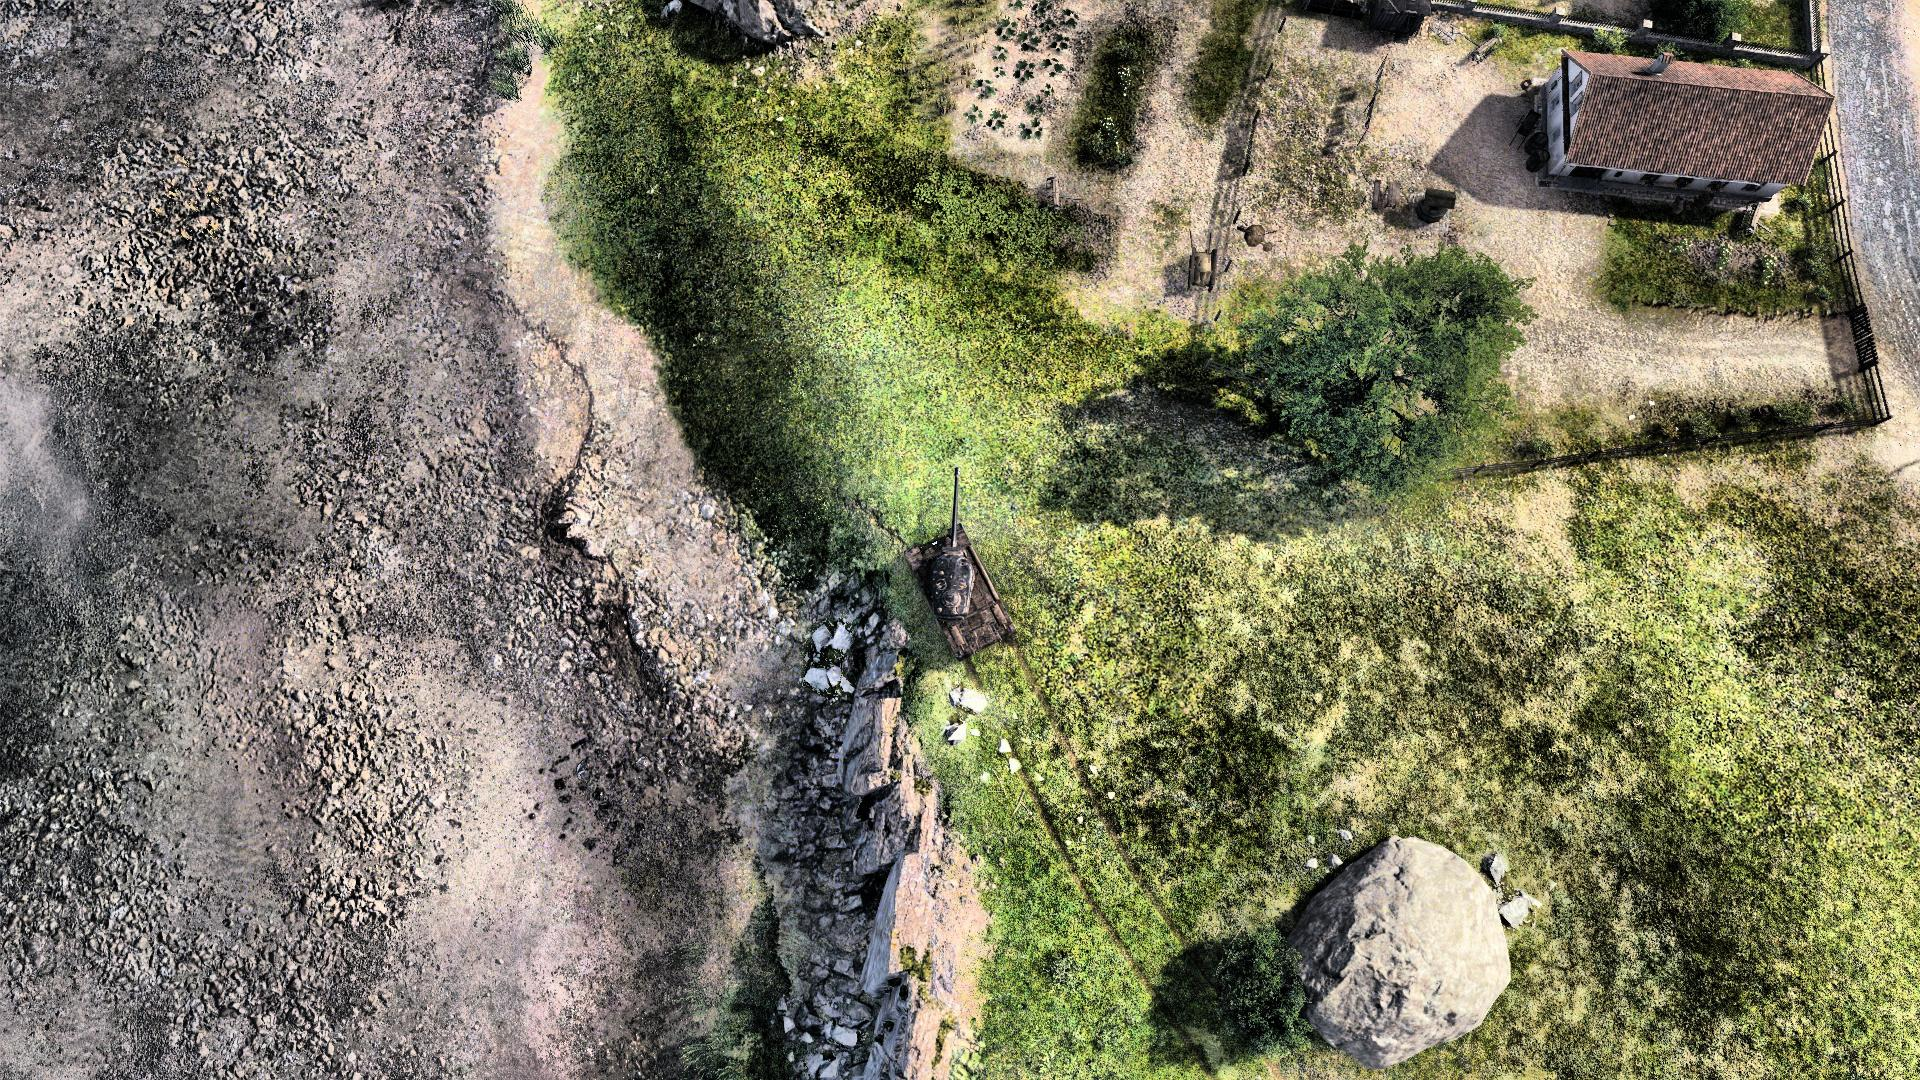military-vehicle: (907, 468, 1015, 658)
